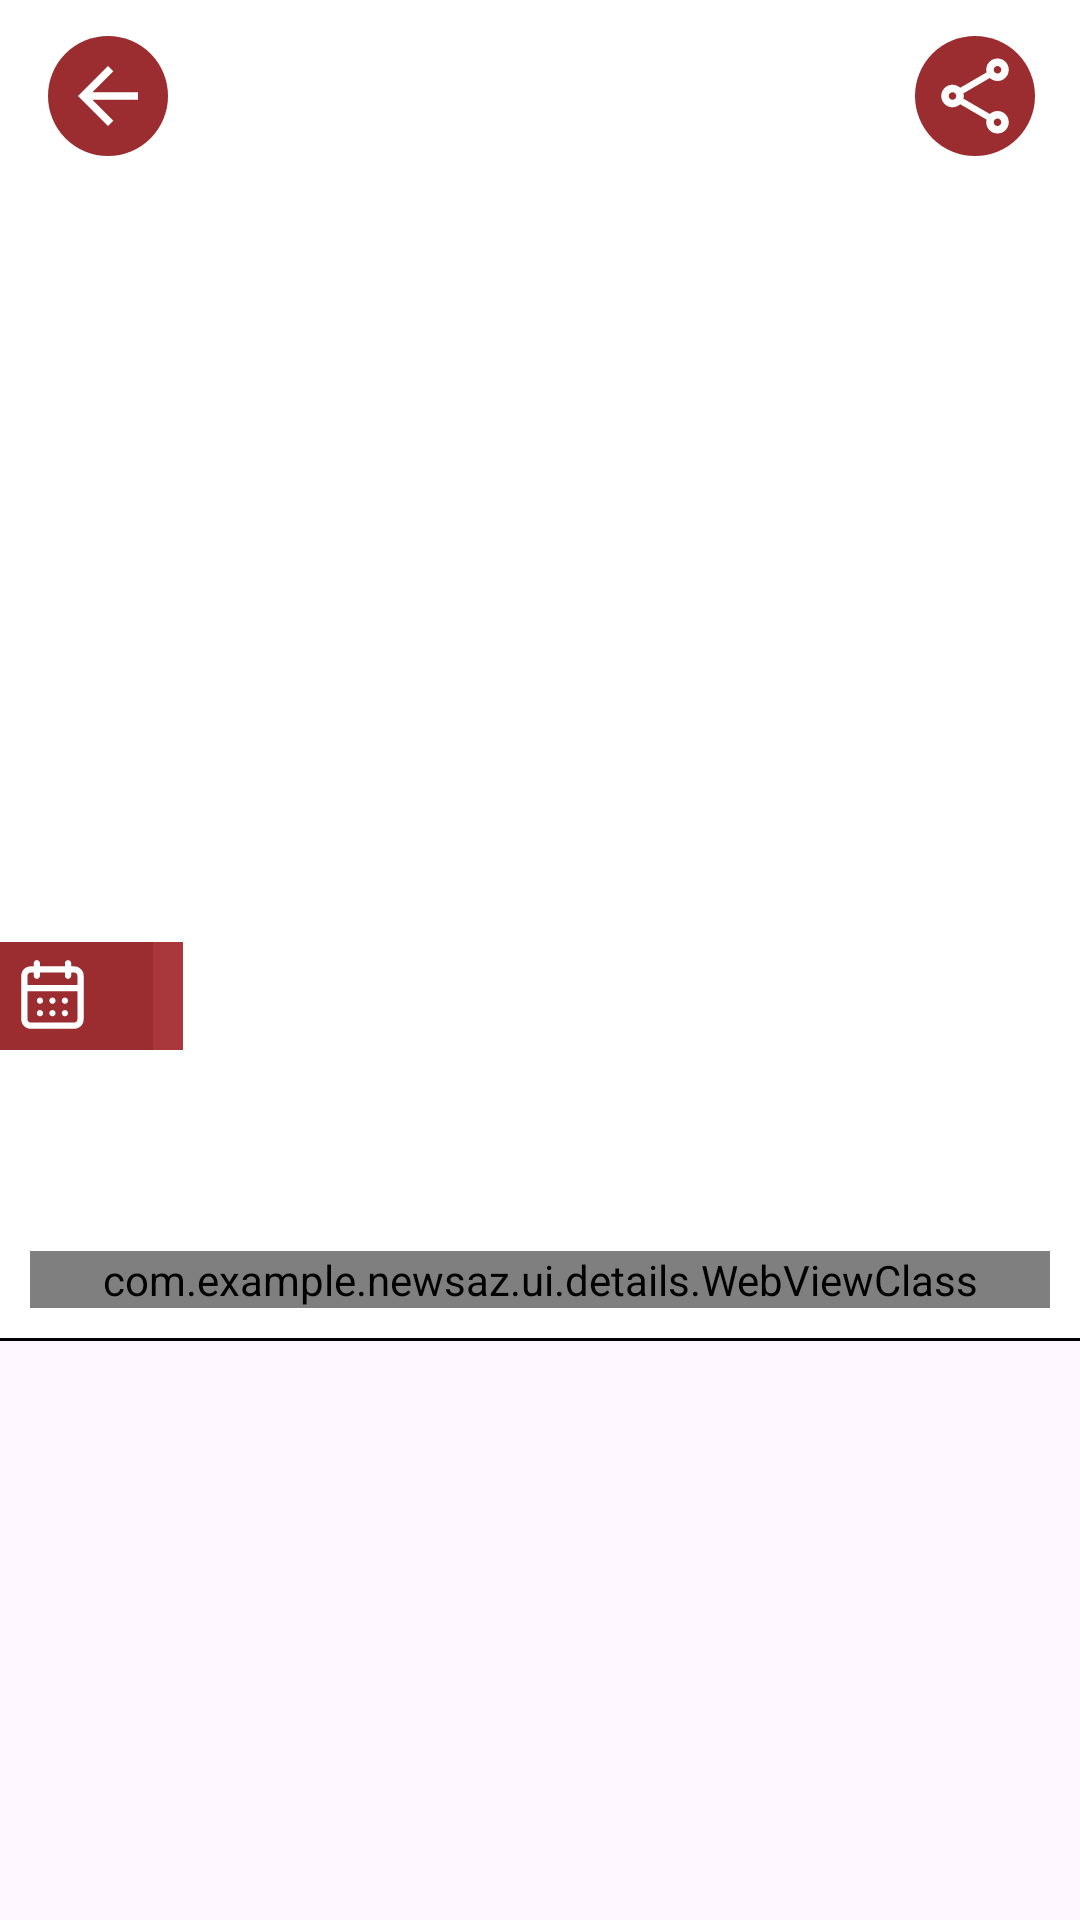

Icons on this 1080w x 1920h Android screen, each with its box as (x1, y1, x2, y2):
arrow: (48, 36, 168, 156)
calendar: (21, 960, 84, 1029)
share: (915, 36, 1035, 156)
